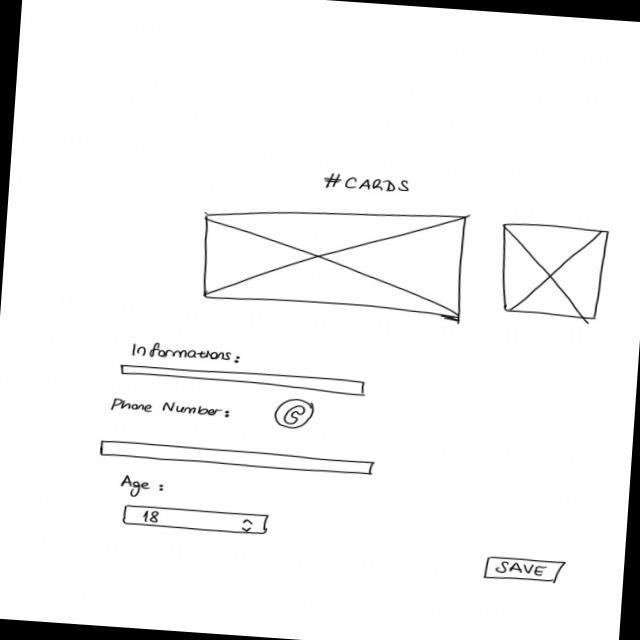button: (481, 556, 569, 587)
icon-button: (274, 397, 317, 431)
image: (199, 198, 470, 319), (497, 222, 611, 322)
input: (99, 439, 378, 478), (118, 364, 371, 399)
label: (130, 341, 246, 367), (109, 397, 233, 421), (323, 172, 413, 198), (118, 474, 167, 500)
number-input: (121, 504, 272, 537)
